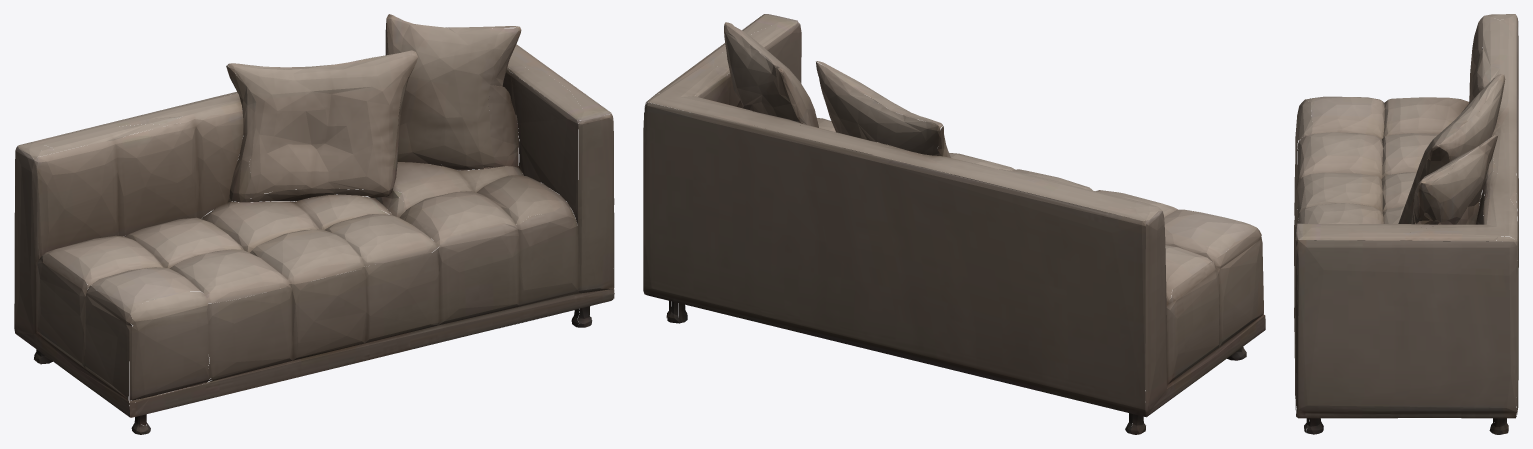
File: j-canape-creme.glb
3 views of the same model, side by side, from view 1: azimuth 30°, elevation 25°; view 2: azimuth 150°, elevation 25°; view 3: azimuth 270°, elevation 25° (orthographic). The views are drawn at different scales.
Visible parts, largest first — view 1: geometry_0; view 2: geometry_0; view 3: geometry_0.
Part boxes in pixels (x1=…): geometry_0: x1=14, y1=14, x2=614, y2=434; geometry_0: x1=643, y1=14, x2=1265, y2=434; geometry_0: x1=1294, y1=14, x2=1518, y2=434.
Size of the model in its own units: 0.9983 by 0.5151 by 0.4173.
Materials: 1 (1 with a texture image).
